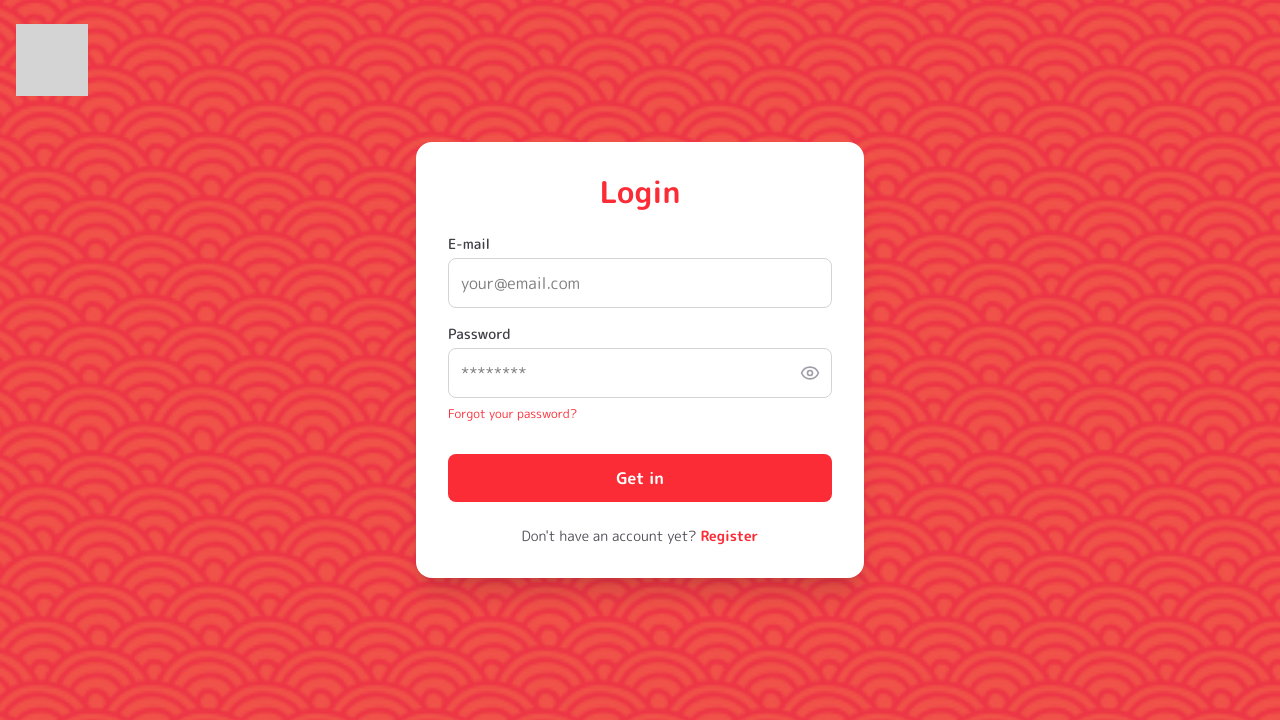
Scenario: LoginPage › should show validation errors if fields are empty or invalid
In the field with placeholder "your@email.com": (640, 283) [448,258,832,308], type "invalid-email"
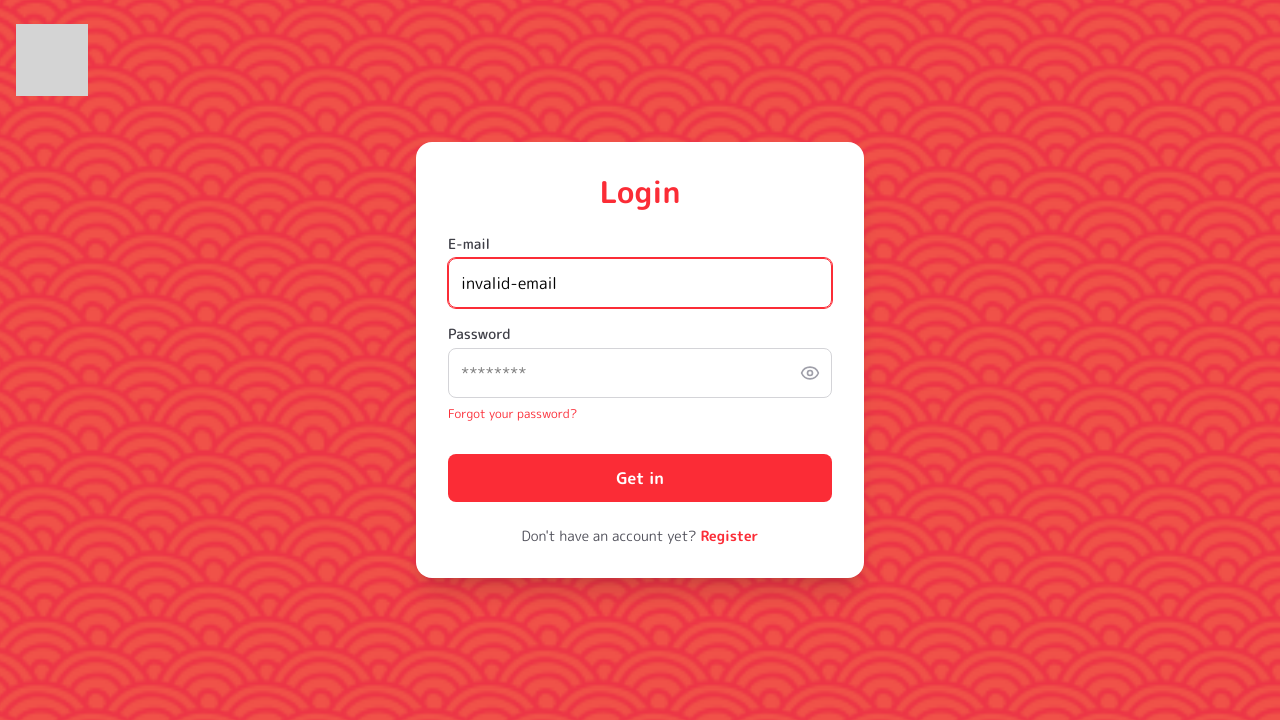
In the password field with placeholder "********": (640, 373) [448,348,832,398], type "123"
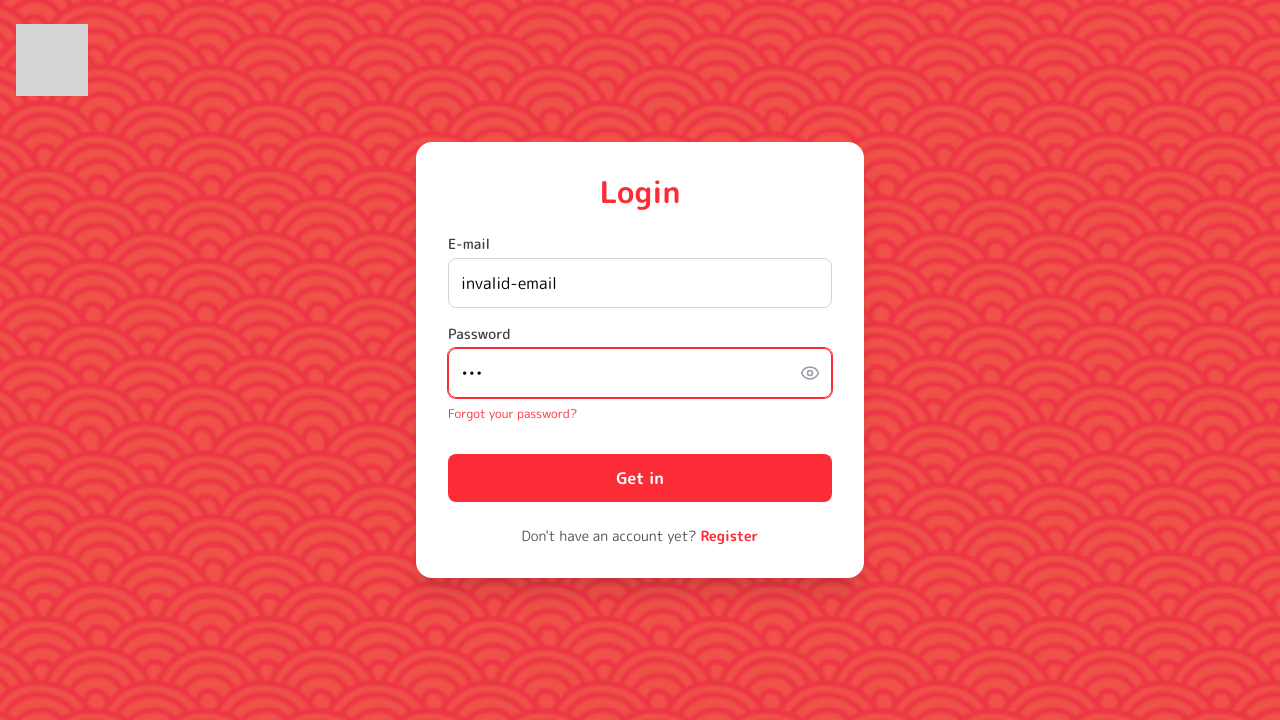
Click the button "Get in": (640, 478) [448,454,832,502]
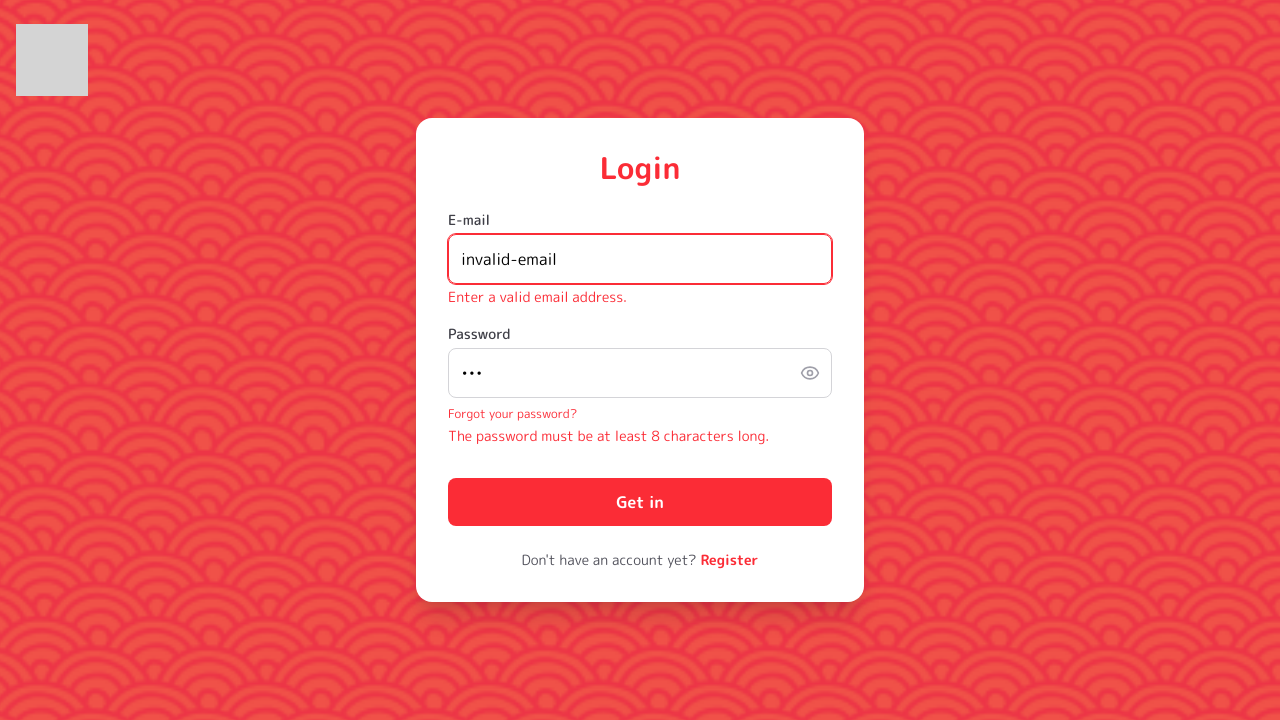
Check: the text "Enter a valid email address." is shown, box [448,287,627,306]
Check: the text "The password must be at least 8 characters long." is shown, box [448,426,769,445]
